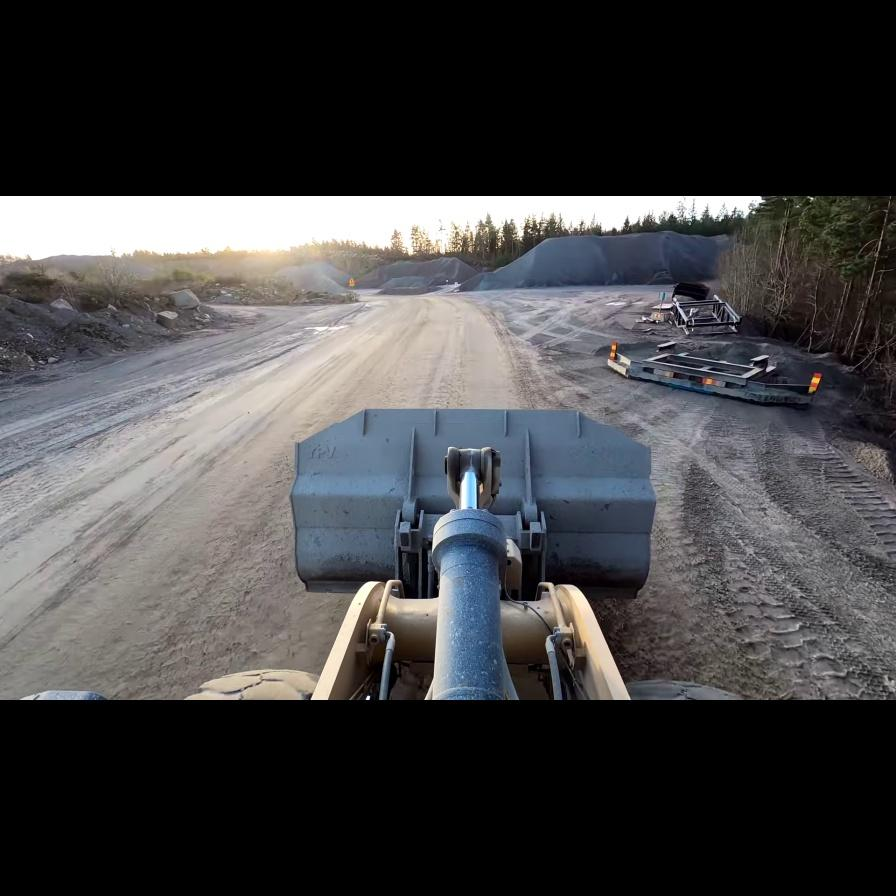anchor: (444, 446, 501, 510)
pile of gravel: (469, 230, 725, 290), (355, 256, 481, 293), (270, 262, 360, 297)
